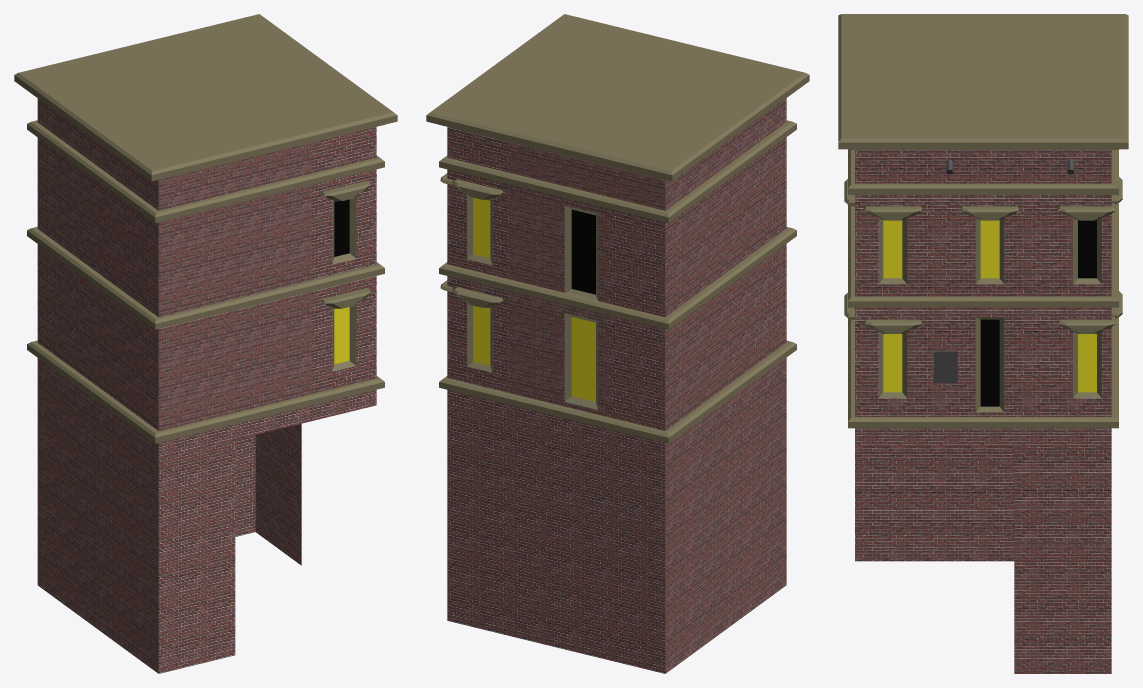
File: terrace - Copy.fbx
3 renders of one model, left to right at view 1: azimuth 30°, elevation 25°; view 2: azimuth 150°, elevation 25°; view 3: azimuth 270°, elevation 25°, orthographic. The views are drawn at different scales.
Parts seen in each view (by area): view 1: Cube, Cube.001, Cube.004; view 2: Cube, Cube.001, Cube.004; view 3: Cube, Cube.001, Cube.004, Cube.003.
Part boxes in pixels (x1,y1,x2,y2): Cube: (37, 98, 376, 673); Cube.001: (14, 14, 397, 443); Cube.004: (321, 175, 376, 308); Cube: (447, 98, 786, 673); Cube.001: (426, 14, 809, 443); Cube.004: (440, 173, 503, 307); Cube: (855, 150, 1111, 673); Cube.001: (838, 14, 1128, 428); Cube.004: (844, 177, 1122, 333); Cube.003: (933, 350, 957, 383).
Bounding box in the file's own units: 317 × 611 × 298.
